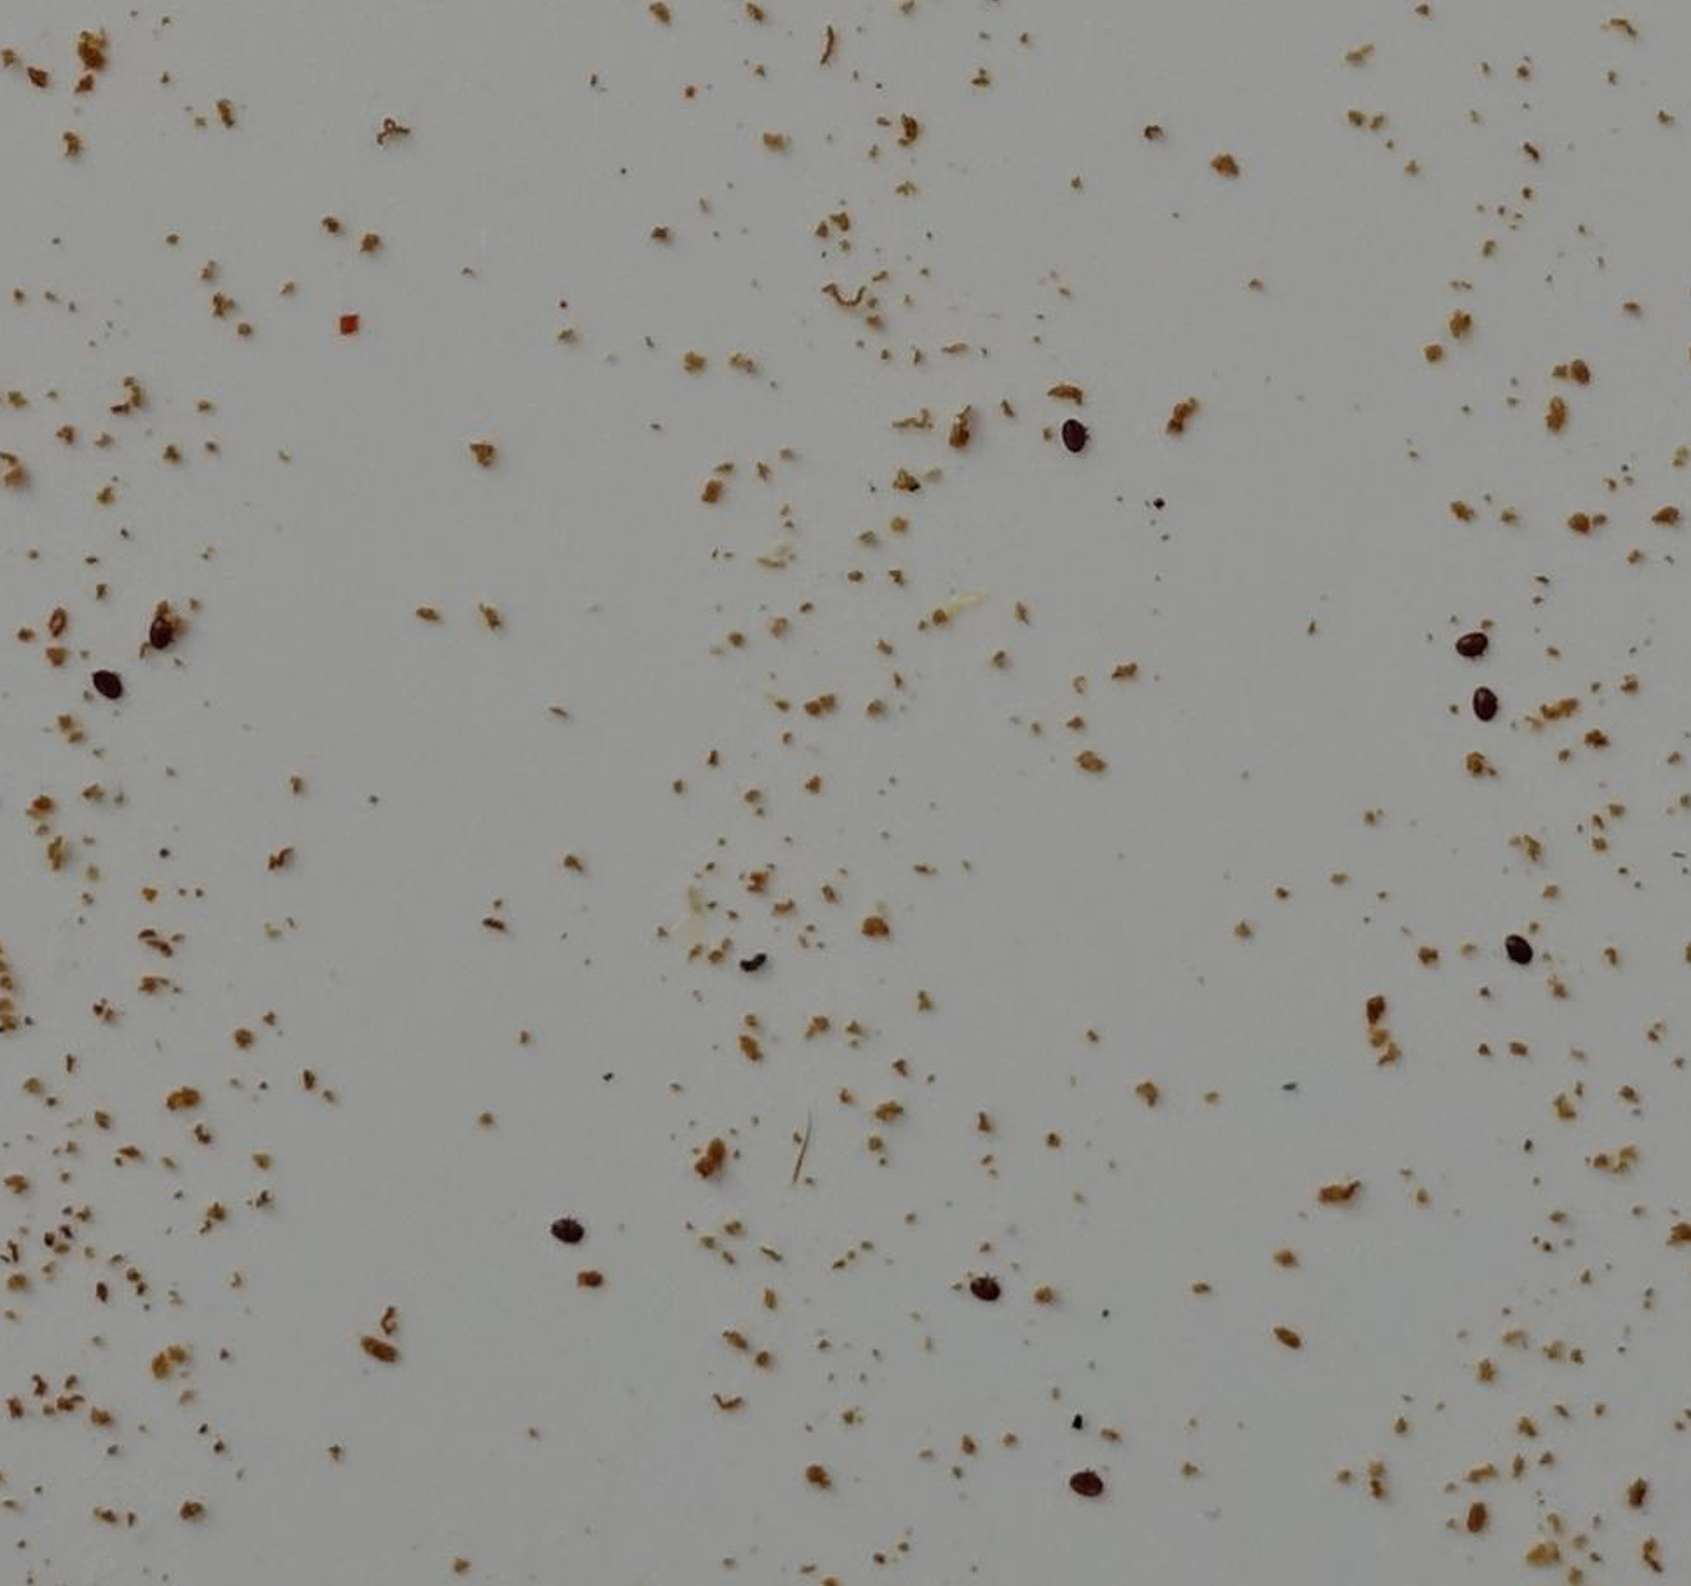Varroa: (1059, 423, 1090, 455), (1454, 623, 1484, 654), (1467, 689, 1496, 718), (552, 1216, 582, 1245), (1075, 1468, 1103, 1497), (968, 1276, 996, 1304), (1508, 939, 1533, 966), (149, 622, 174, 648), (95, 663, 119, 692)
